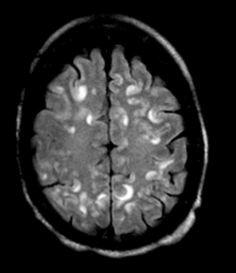Normal_Brain: (1, 4, 236, 273)
